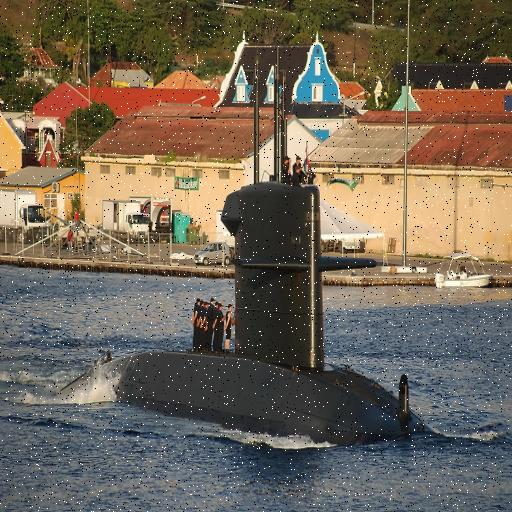submarine: (60, 23, 381, 418)
